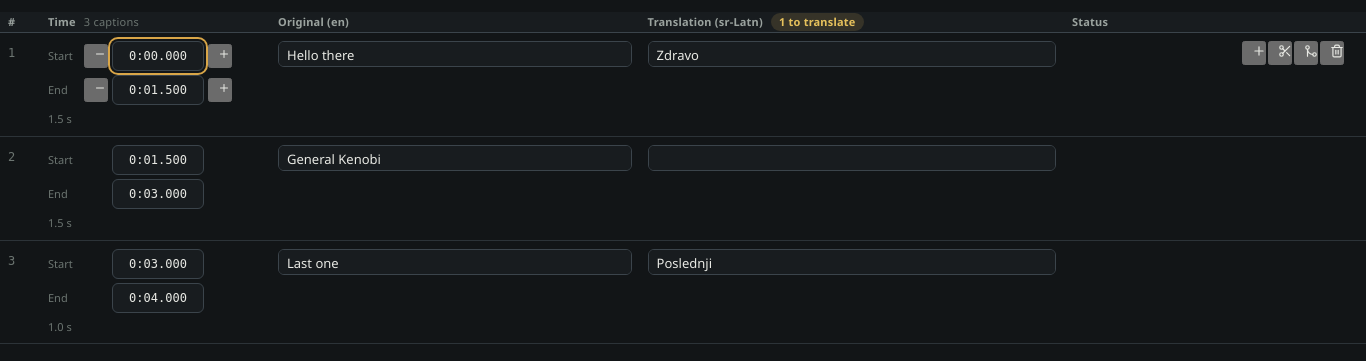
it: CaptionTable › reverts an invalid timecode on blur without committing
Replace the text in the 1st field named "Start" with "soon" at (158, 56), box [112, 41, 204, 71]
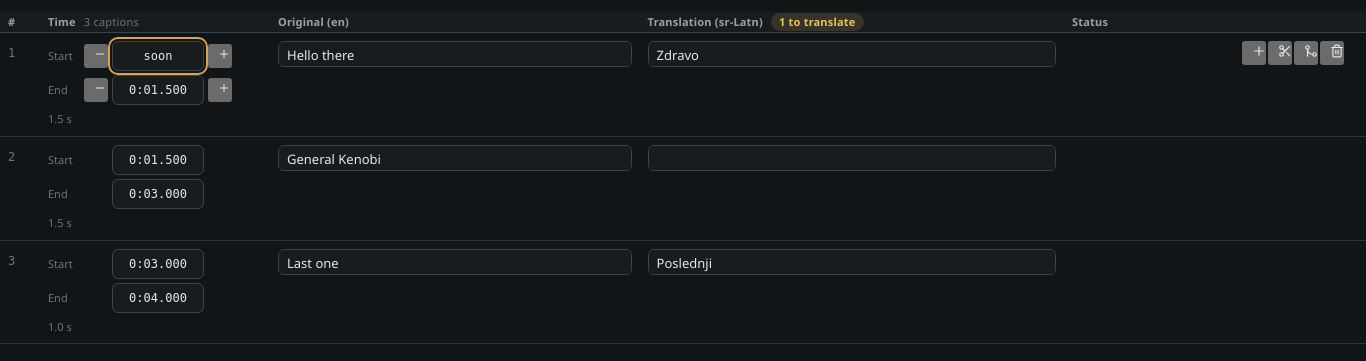
Leave the 1st field named "Start", box [112, 41, 204, 71]
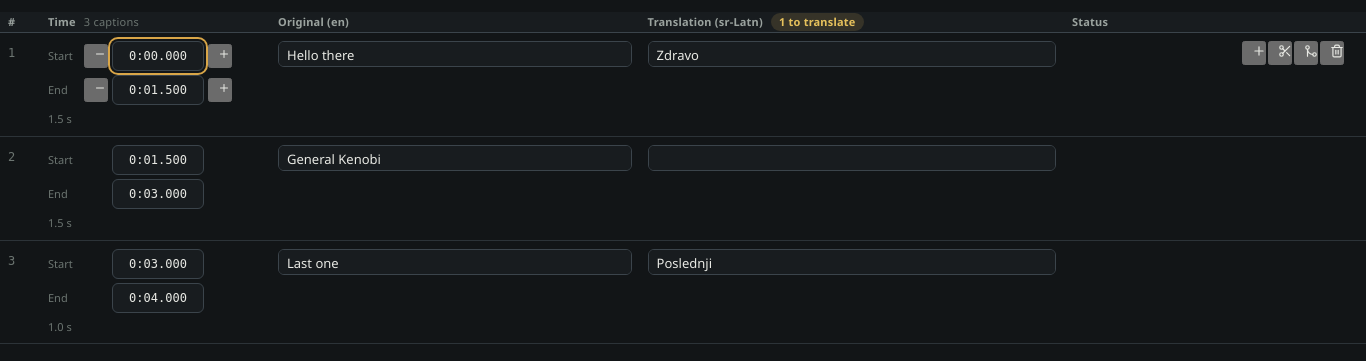
Expected: the 1st field named "Start" holds "0:00.000", [112, 41, 204, 71]
